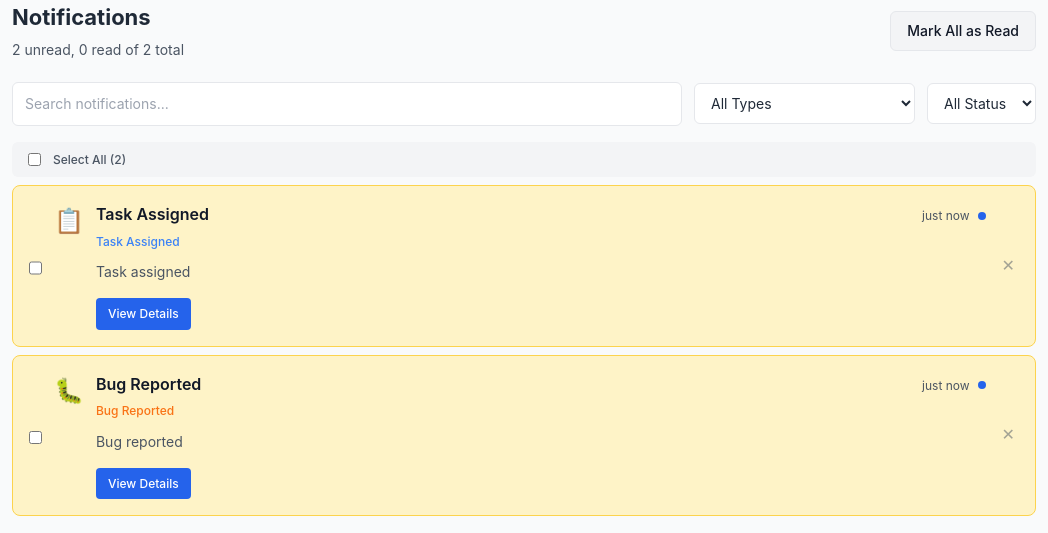
Scenario: NotificationsView › toggles select all
Click the checkbox next to "Select All (" at (34, 160), box [28, 153, 41, 166]
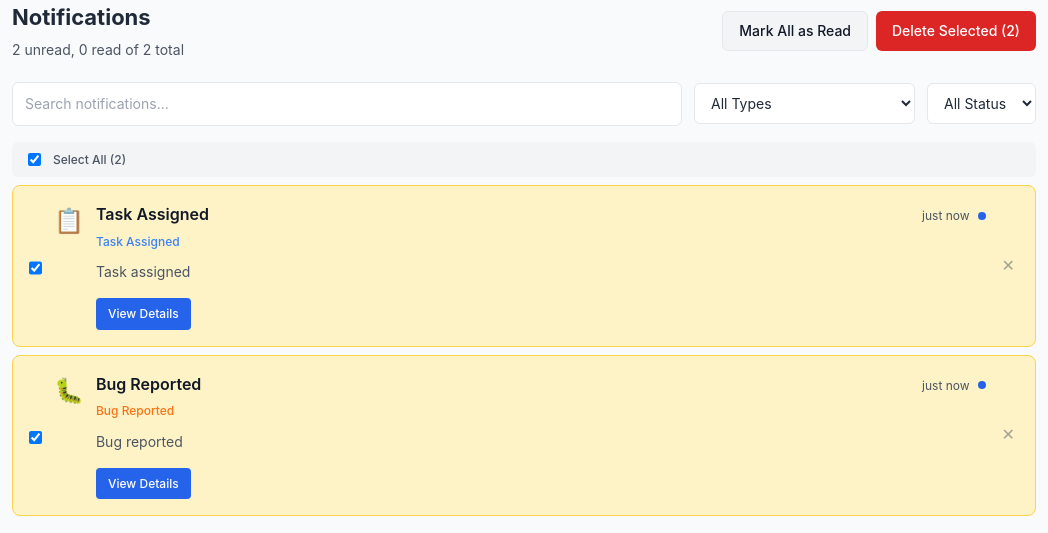
expect the checkbox next to "Select All (" is checked: met, box [28, 153, 41, 166]
expect the 2nd checkbox is checked: met, box [29, 206, 42, 330]
expect the 3rd checkbox is checked: met, box [29, 376, 42, 499]
